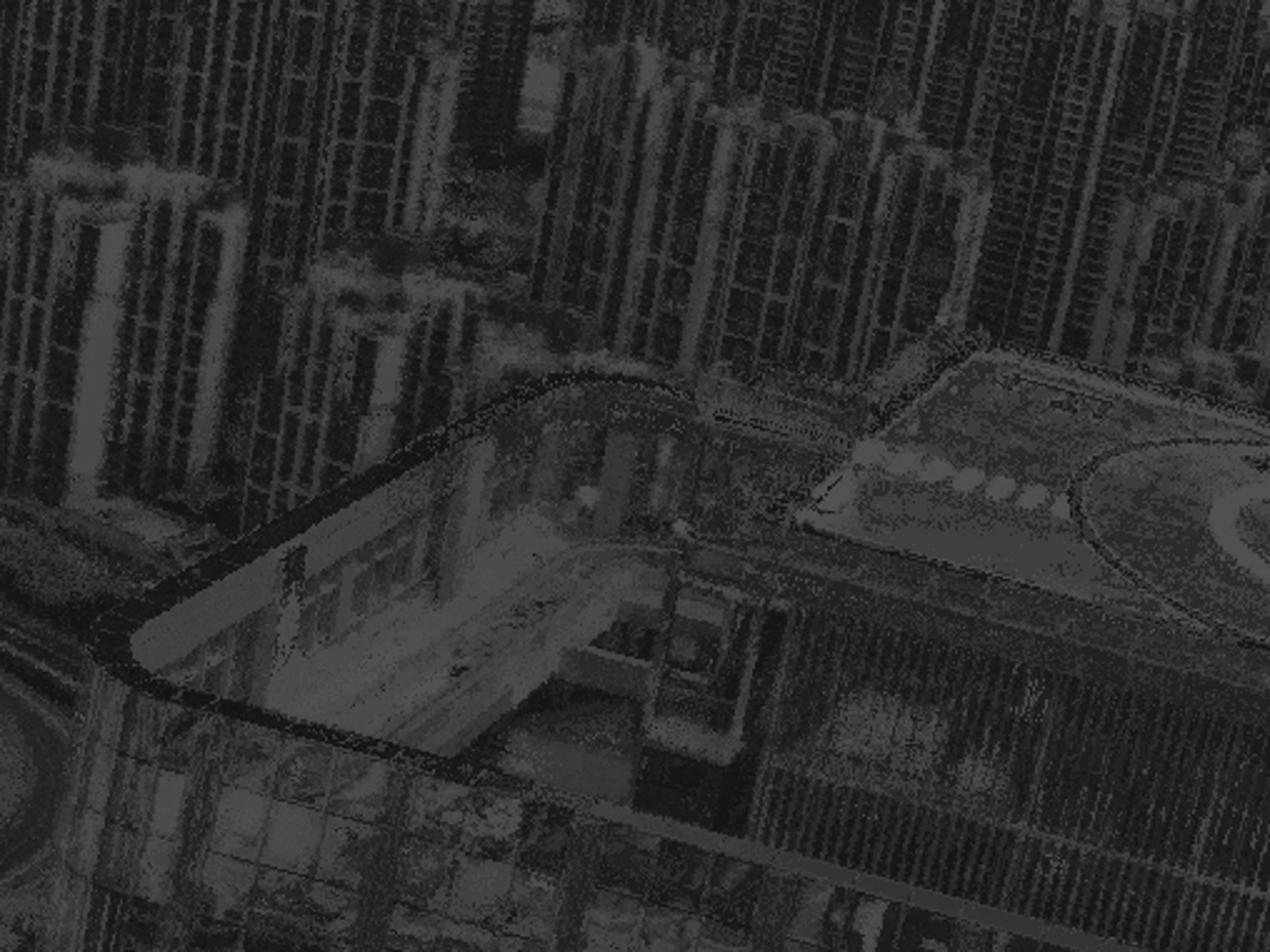Apron: (1197, 446, 1270, 603)
